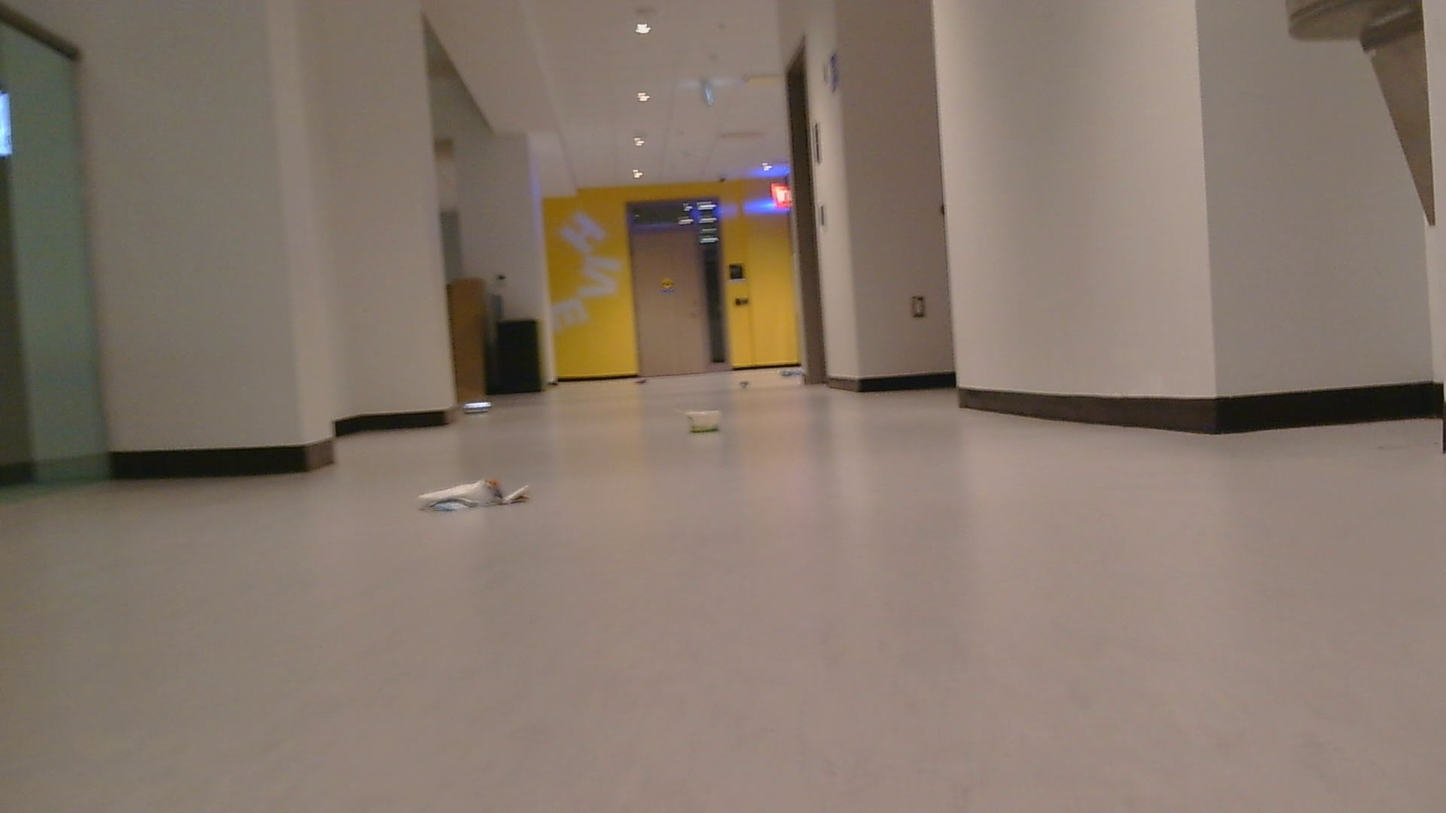carton: (417, 476, 534, 519), (681, 403, 727, 442), (465, 394, 500, 414), (777, 370, 807, 379), (630, 373, 647, 384), (738, 373, 750, 383)
